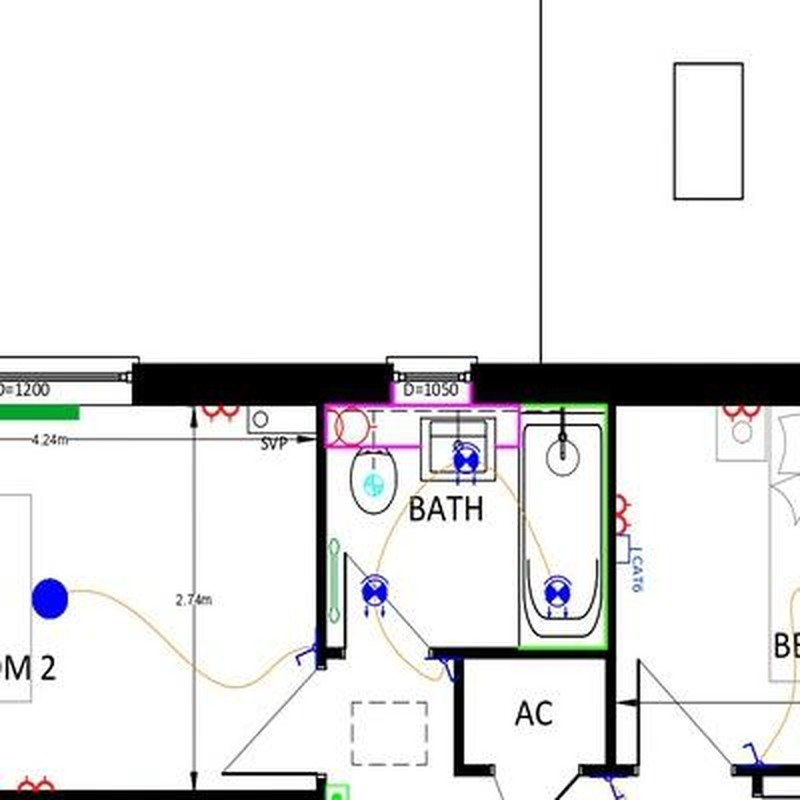Cat 6 Data Socket: (615, 535, 646, 596)
Ceiling Mounted Continuous Extract FanWith Boost Mode Activated By Light Switch: (364, 474, 384, 496)
Double Socket: (201, 405, 240, 424), (722, 405, 762, 423), (615, 493, 632, 535), (18, 774, 55, 791)
Full Height Tiling: (522, 405, 608, 649)
Light Switch: (602, 776, 630, 799), (742, 743, 766, 765), (297, 642, 315, 667), (438, 661, 453, 683)
Low Energy Downlighter: (542, 575, 572, 619), (360, 574, 389, 618), (451, 443, 481, 485)
Low Energy Pendant Light: (33, 578, 69, 620)
Programmable Room Thermostat: (328, 784, 349, 800)
Radiator: (1, 404, 78, 420)
Shaver Socket: (324, 408, 377, 445)
